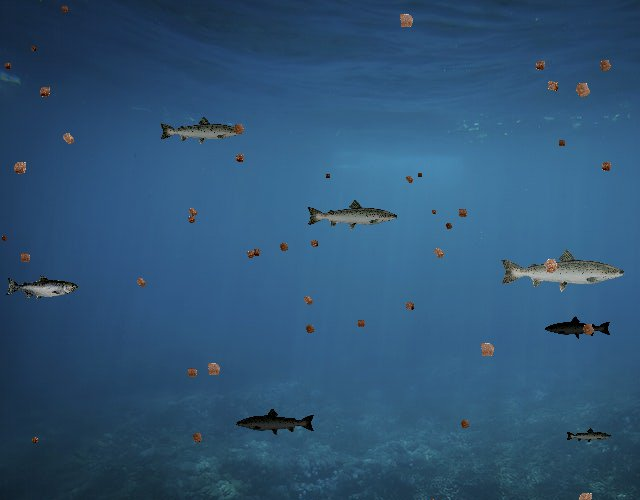Fish: (498, 247, 627, 293), (306, 198, 400, 232), (158, 115, 244, 146), (236, 408, 317, 437), (5, 275, 78, 301), (544, 316, 612, 340), (565, 427, 612, 444)
Pellet: (56, 126, 81, 151), (571, 486, 599, 500), (455, 415, 474, 434), (28, 433, 42, 447), (27, 43, 39, 55)
